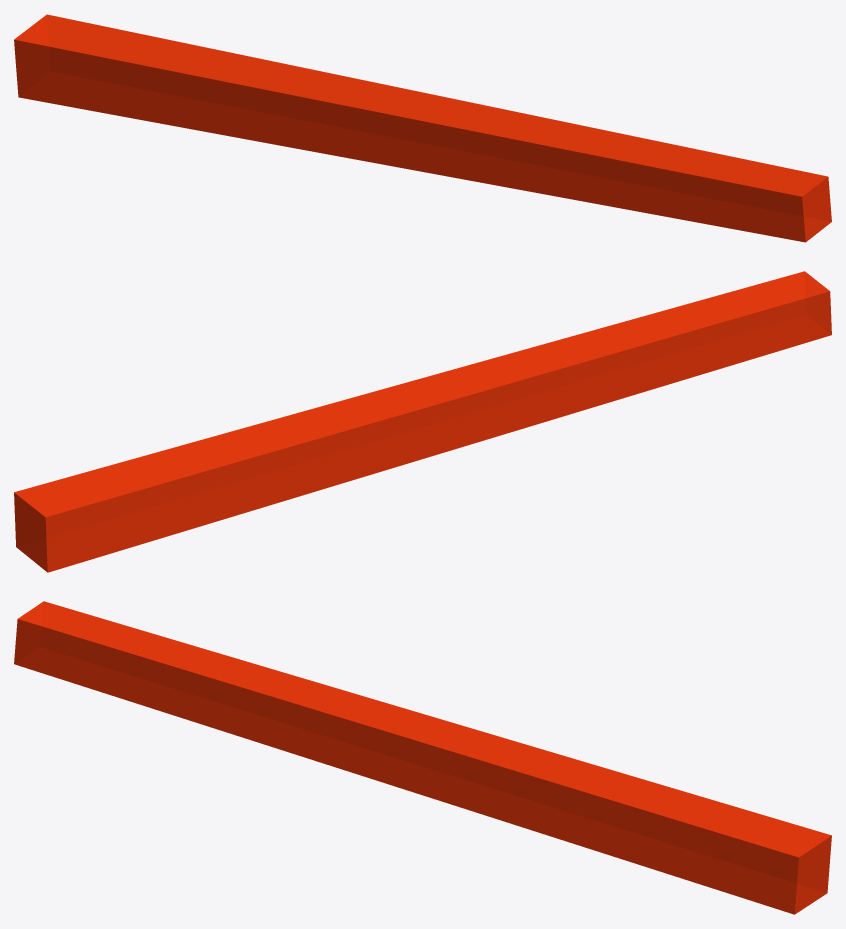
File: Event_420107950_EBrechit_10.fbx
3 renders of one model, top to bottom at view 1: azimuth 90°, elevation 25°; view 2: azimuth 150°, elevation 25°; view 3: azimuth 270°, elevation 25°, orthographic.
Visible parts, largest first — view 1: Model; view 2: Model; view 3: Model.
Part boxes in pixels (x1,y1,x2,y2): Model: (14,14,831,242); Model: (14,271,831,572); Model: (14,601,831,914).
Size of the model in its own units: 0.5734 by 0.1189 by 0.9035.
